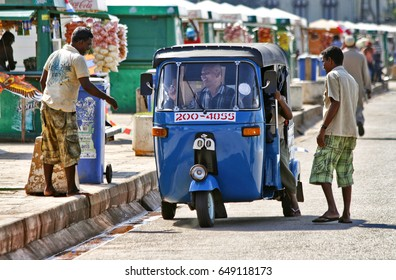threewheel: (139, 42, 304, 227)
